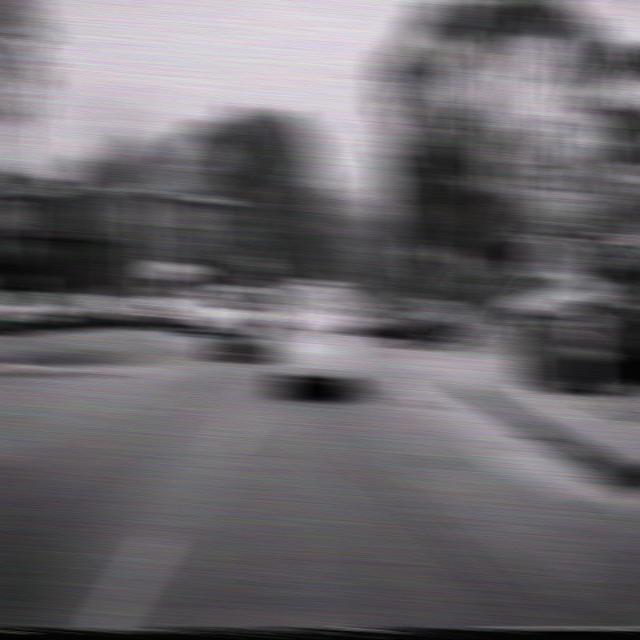stop_sign: (438, 244, 464, 272)
